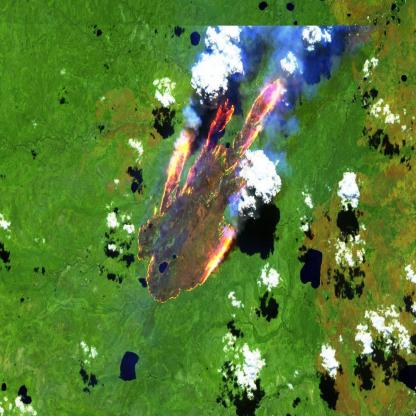fire: (131, 71, 287, 308)
